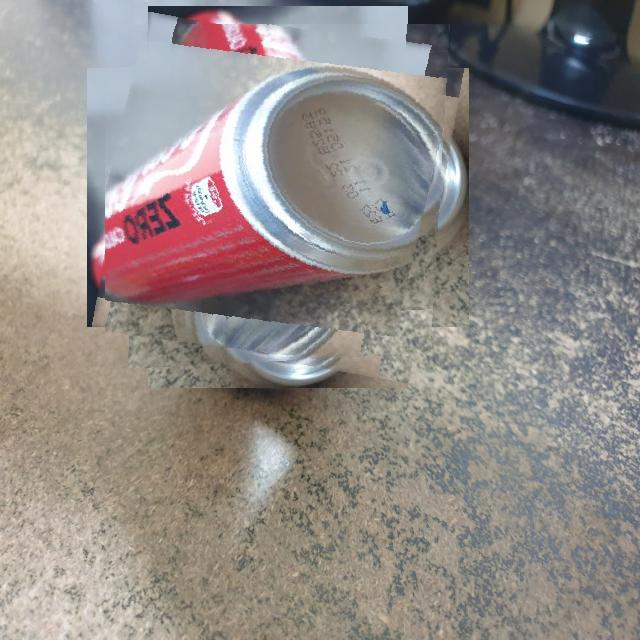recyclable: (105, 24, 451, 371)
